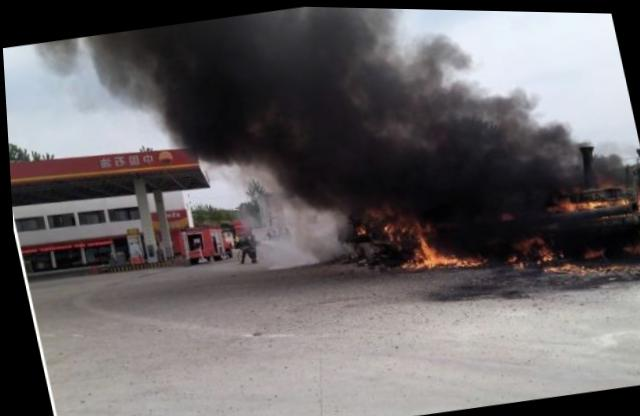fire: (558, 191, 627, 210), (419, 233, 437, 265), (453, 253, 477, 266), (537, 242, 553, 259), (412, 245, 425, 265), (433, 252, 454, 263), (382, 220, 396, 235), (353, 218, 366, 233), (633, 183, 639, 211), (400, 257, 413, 266)
